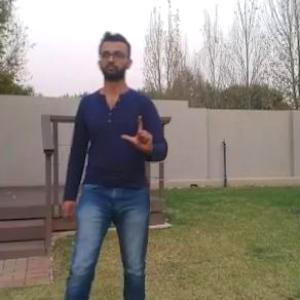land_hand: (114, 107, 157, 156)
